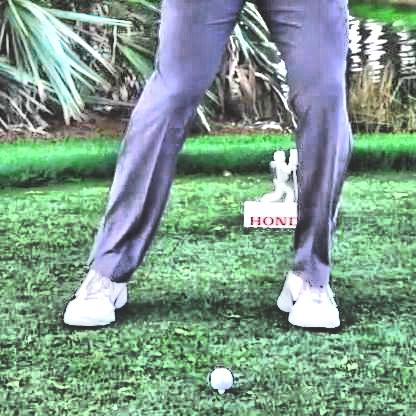golfball: (207, 365, 229, 389)
